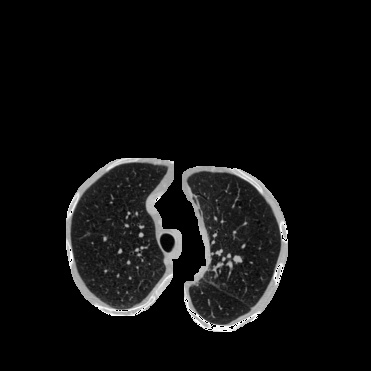PN: (232, 255, 240, 263)
